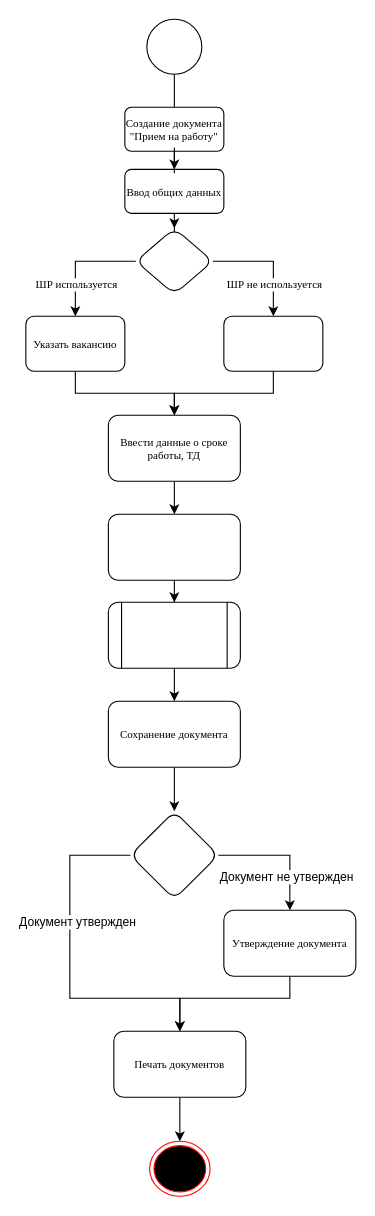
Some shapes in this 375 by 1216 pixel diagram are drawn without their labels. The centre of each missing label's shape, as x and y in pixels:
"Ввод данных об условиях труда сотрудника" belongs at pixel 173 546.
"Добавление сопроводительных документов" belongs at pixel 173 634.
"Указать подразделение, должность" belongs at pixel 273 343.
